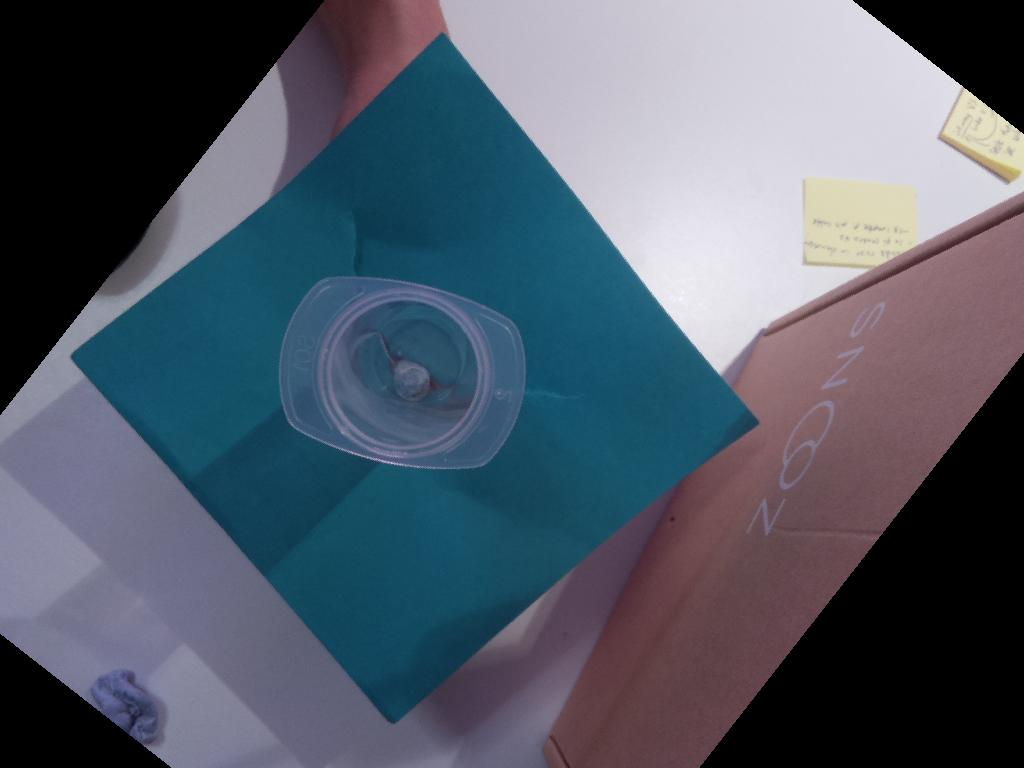clean: (272, 269, 532, 482)
